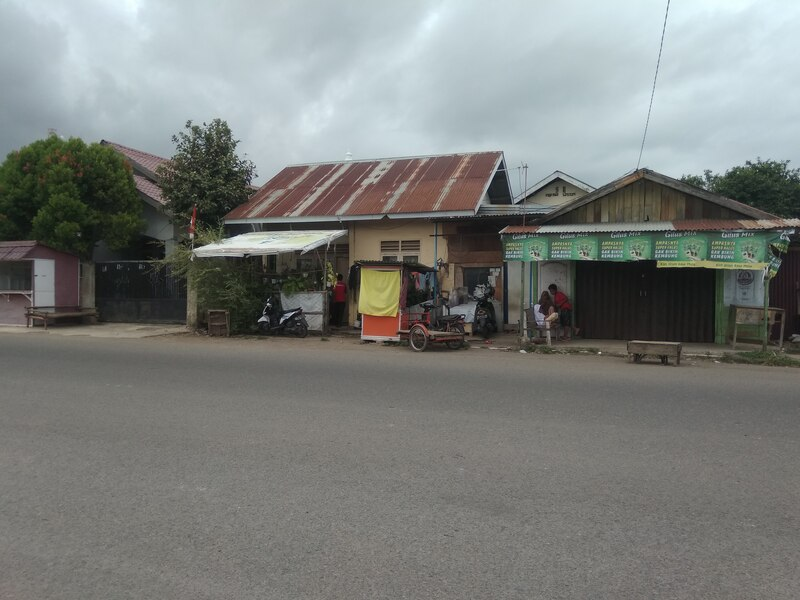becak barang: (397, 294, 480, 359)
